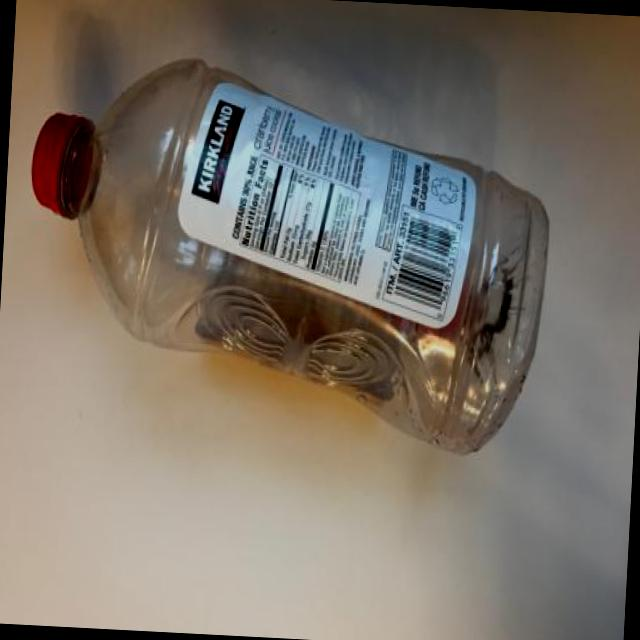Recycle: (15, 48, 558, 459)
